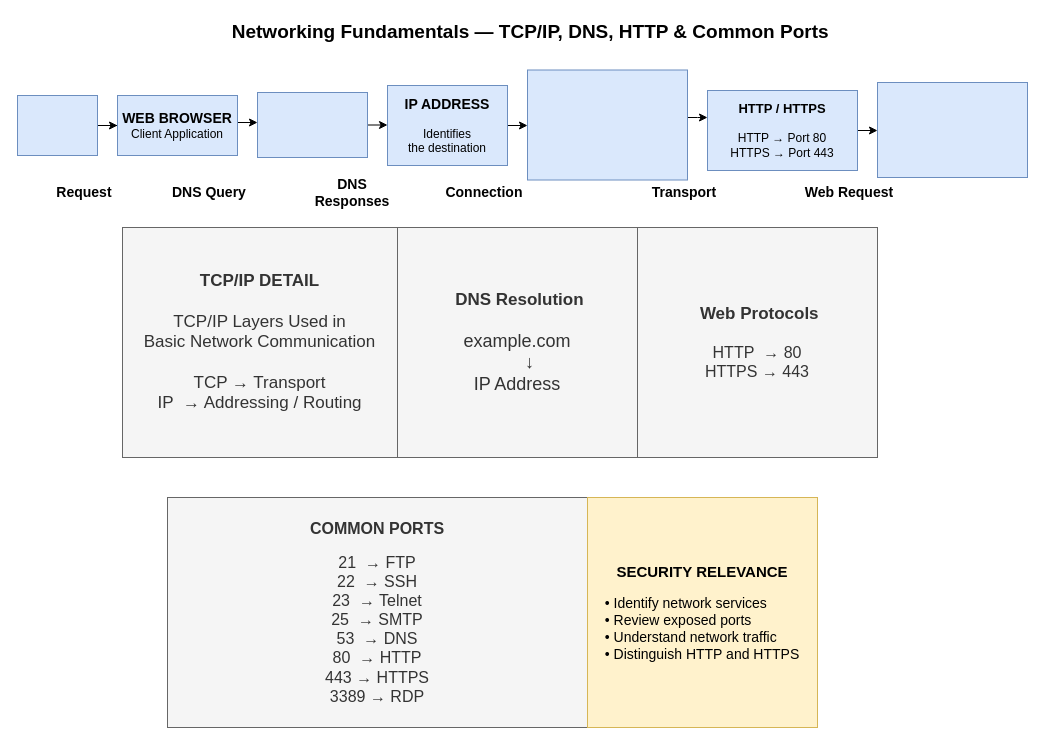
Image size: 1045x745. Some labels were removed from this diagram. Here are the shapes that lost their labels. From the top down, the centre of each, then its label:
At (57,125): "user client".
At (312,125): "DNS Domain Name → IP Address".
At (607,124): "TCP/IP TCP → Reliable Communication IP → Addressing & Routing".
At (952,130): "WEB SERV ER Receives Requests Sends Responses".
